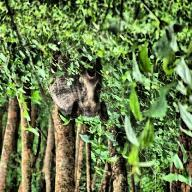boar: (45, 45, 111, 134)
